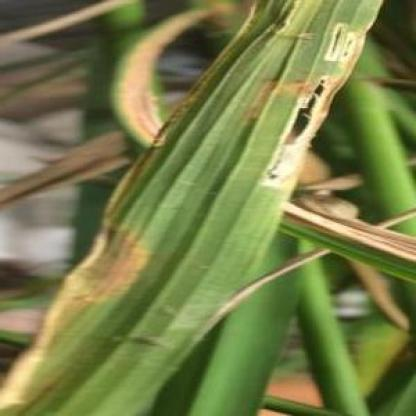Blight: (245, 18, 378, 202)
